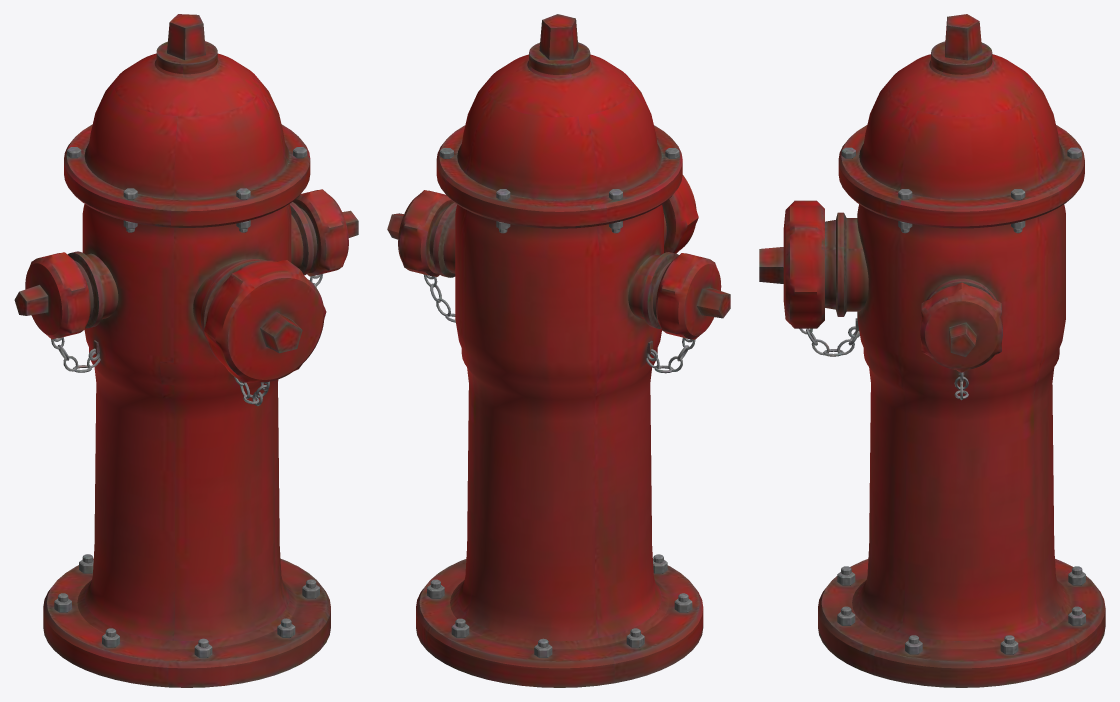
Rendered from g3-fire-hydrant.glb.
The picture shows the model from 3 angles, left to right: view 1: azimuth 30°, elevation 25°; view 2: azimuth 150°, elevation 25°; view 3: azimuth 270°, elevation 25°; orthographic projection.
Visible parts, largest first — view 1: fire-hydrant_body; view 2: fire-hydrant_body; view 3: fire-hydrant_body.
Part boxes in pixels (left/top/right/bottom): fire-hydrant_body: left=14, top=14, right=358, bottom=687; fire-hydrant_body: left=387, top=14, right=730, bottom=687; fire-hydrant_body: left=759, top=14, right=1105, bottom=687.
Size of the model in its own units: 0.426 by 0.744 by 0.385.
1 material, 1 textured.
